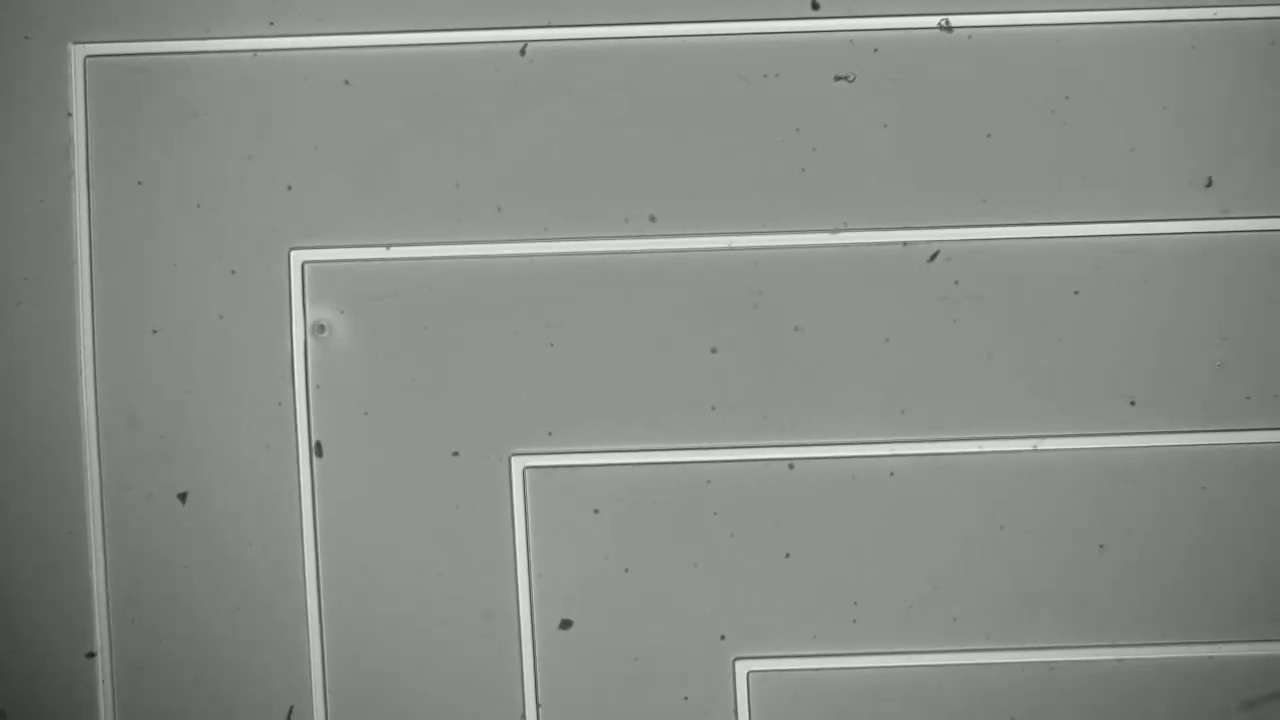stains_enbedded: (923, 6, 965, 46)
